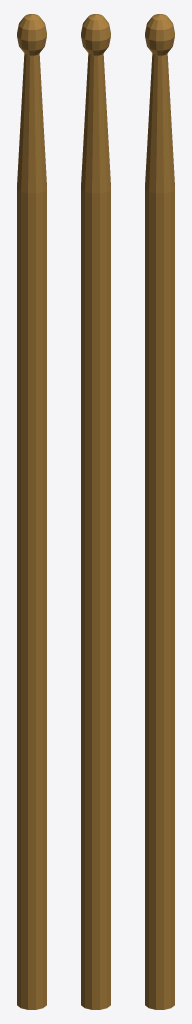
Rendered from drumstick.fbx.
3 renders of one model, left to right at view 1: azimuth 30°, elevation 25°; view 2: azimuth 150°, elevation 25°; view 3: azimuth 330°, elevation 25°, orthographic.
Parts seen in each view (by area): view 1: cylinder_1, cylinder, sphere; view 2: cylinder_1, cylinder, sphere; view 3: cylinder_1, cylinder, sphere.
Boxes of the visible parts, bbox=[...] form: cylinder_1: bbox=[17, 189, 46, 1009]; cylinder: bbox=[17, 53, 46, 193]; sphere: bbox=[17, 14, 46, 55]; cylinder_1: bbox=[81, 189, 110, 1009]; cylinder: bbox=[81, 53, 110, 193]; sphere: bbox=[81, 14, 110, 55]; cylinder_1: bbox=[145, 189, 174, 1009]; cylinder: bbox=[145, 53, 174, 193]; sphere: bbox=[145, 14, 174, 55].
Bounding box in the file's own units: 6.25 × 227 × 6.25.
1 material, 1 textured.
